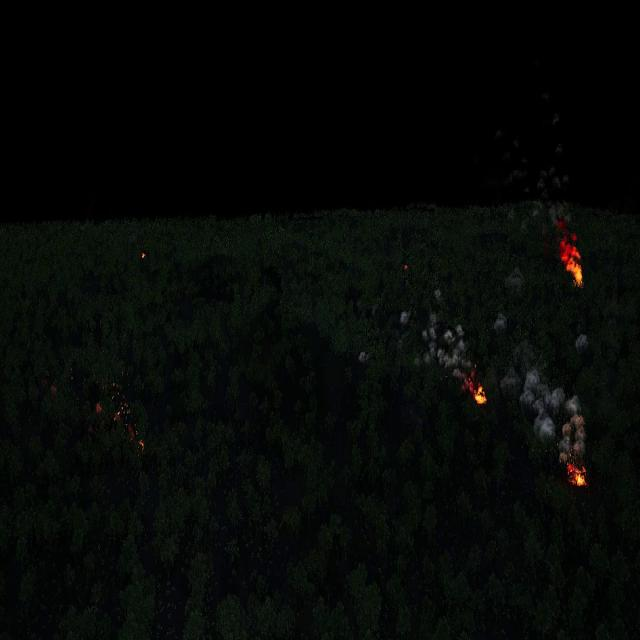fire: (561, 237, 582, 286), (568, 463, 586, 485), (475, 385, 487, 404), (139, 441, 145, 452), (140, 250, 146, 261), (404, 264, 408, 271)
smoke: (516, 113, 578, 256), (499, 366, 588, 458), (420, 318, 475, 394), (114, 408, 138, 444), (507, 270, 525, 290), (493, 312, 508, 332), (574, 333, 589, 353), (398, 310, 410, 326), (432, 286, 443, 302), (356, 351, 369, 364)
